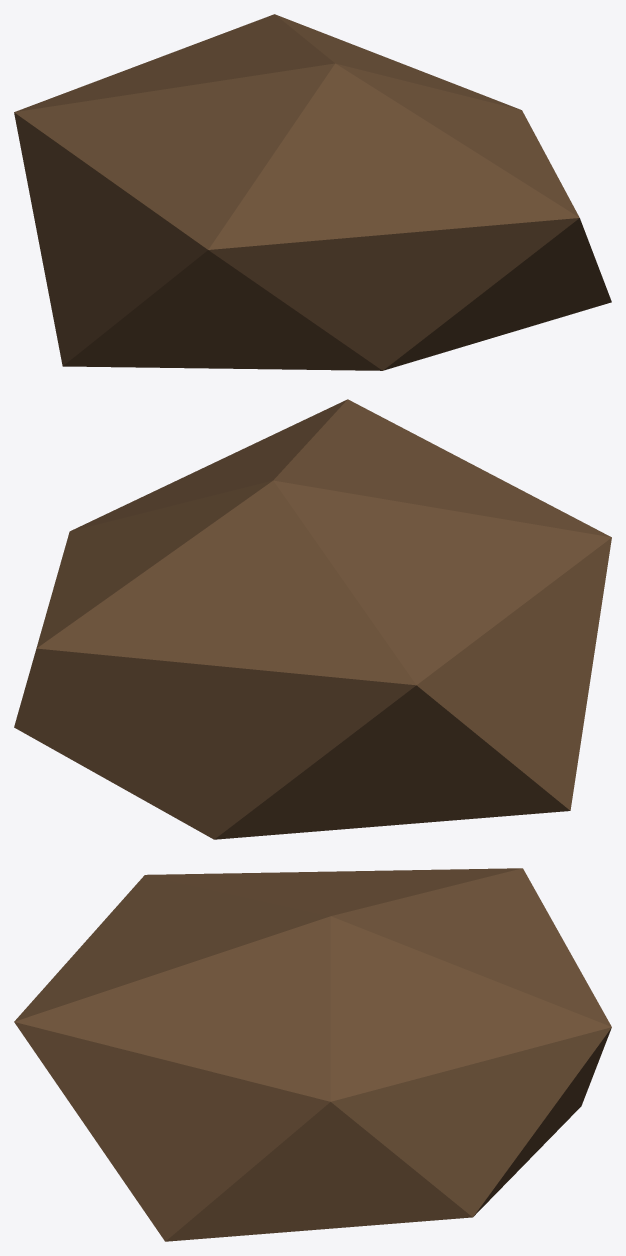
Rendered from detail_dirt.glb.
3 renders of one model, top to bottom at view 1: azimuth 30°, elevation 25°; view 2: azimuth 150°, elevation 25°; view 3: azimuth 270°, elevation 25°, orthographic. The views are drawn at different scales.
Parts seen in each view (by area): view 1: clod_0; view 2: clod_0; view 3: clod_0.
Boxes of the visible parts, bbox=[...] form: clod_0: bbox=[14, 14, 611, 370]; clod_0: bbox=[14, 399, 611, 839]; clod_0: bbox=[14, 868, 611, 1241].
Size of what is drawn, in the model's own units: 0.1582 by 0.095 by 0.1731.
